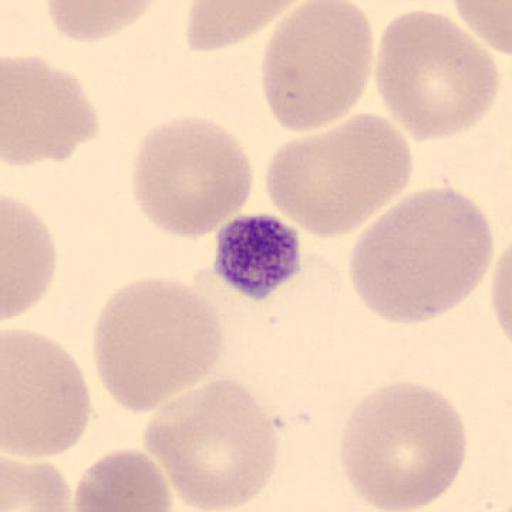Platelet: (210, 210, 304, 302)
RBC: (348, 187, 496, 324), (264, 113, 414, 240), (90, 276, 224, 414), (143, 378, 278, 512), (338, 381, 468, 512), (374, 9, 501, 142), (129, 114, 255, 240), (259, 0, 374, 134), (3, 326, 91, 460), (1, 54, 101, 167), (2, 194, 58, 322), (72, 447, 174, 512), (184, 0, 304, 52), (43, 0, 160, 44), (1, 455, 73, 512), (451, 0, 512, 55), (490, 242, 512, 348)
